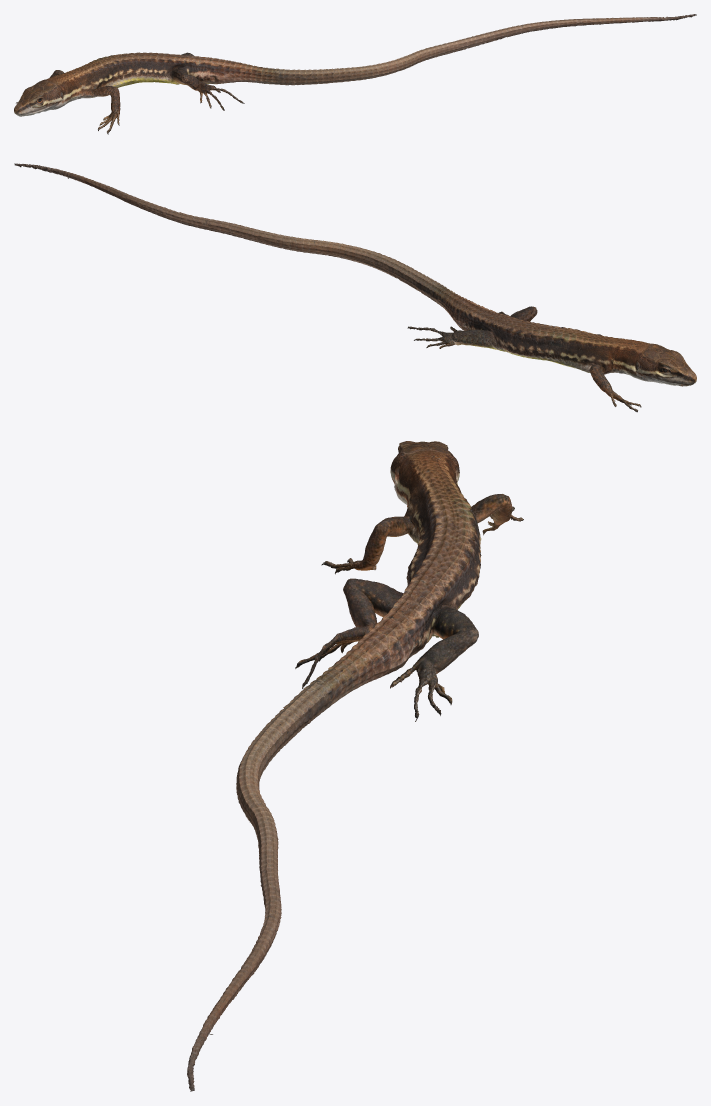
File: lizard.glb
The picture shows the model from 3 angles, top to bottom: view 1: azimuth 30°, elevation 25°; view 2: azimuth 150°, elevation 25°; view 3: azimuth 270°, elevation 25°; orthographic projection. The views are drawn at different scales.
Visible parts, largest first — view 1: Object_6, Object_11; view 2: Object_6, Object_11; view 3: Object_6, Object_11.
Part boxes in pixels (left/top/right/bottom): Object_6: left=14, top=52, right=279, bottom=134; Object_11: left=274, top=14, right=696, bottom=85; Object_6: left=407, top=285, right=696, bottom=412; Object_11: left=14, top=163, right=444, bottom=300; Object_6: left=295, top=441, right=523, bottom=721; Object_11: left=187, top=679, right=332, bottom=1091.
Bounding box in the file's own units: 1 × 0.0686 × 0.2335.
Materials: 2 (2 with a texture image).
